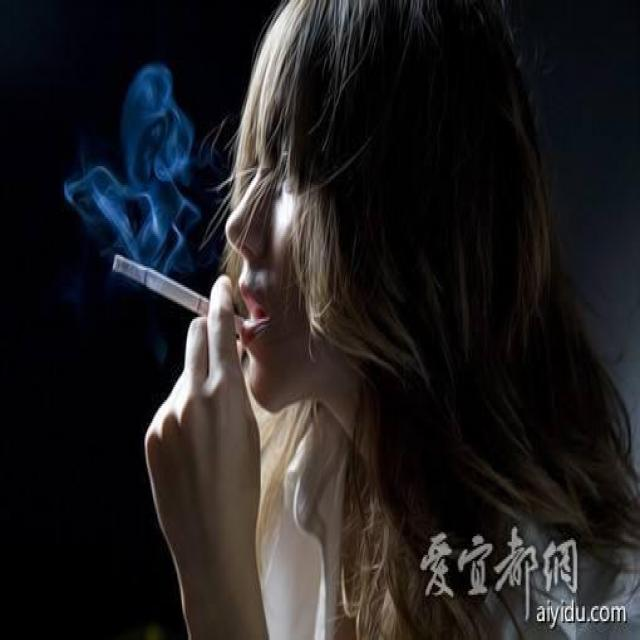cigarette: (107, 215, 223, 338)
